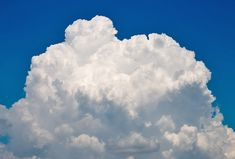Cumulus: (6, 10, 234, 159)
